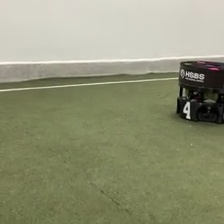robot: (175, 57, 224, 124)
